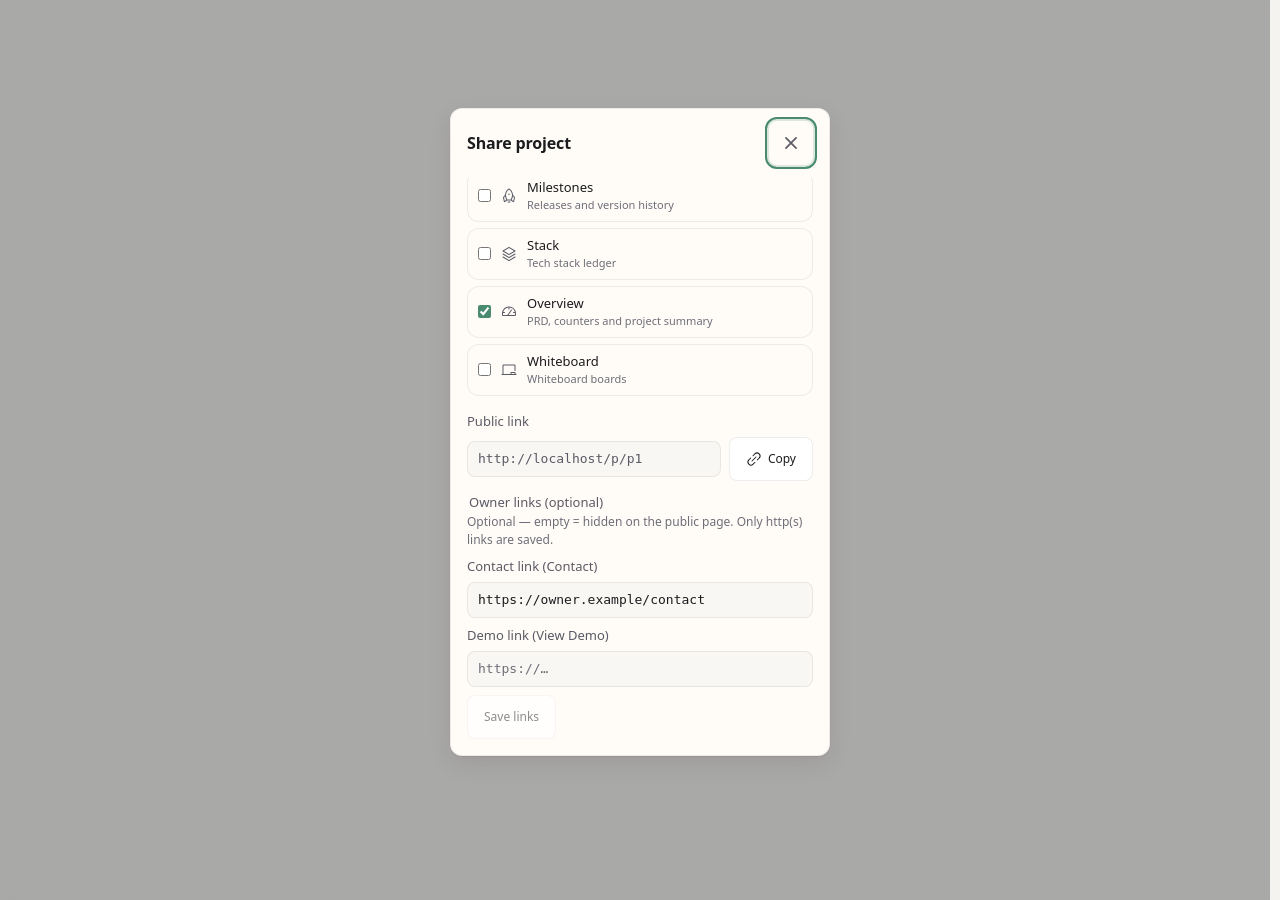
Test: ShareModal owner CTA › saves trimmed URLs and shows the saved indicator
The image size is (1280, 900).
(page scrolled)
Type "  https://demo.example/app  " into the field labelled "Demo link (View Demo)" at (640, 669), box [467,651,813,687]
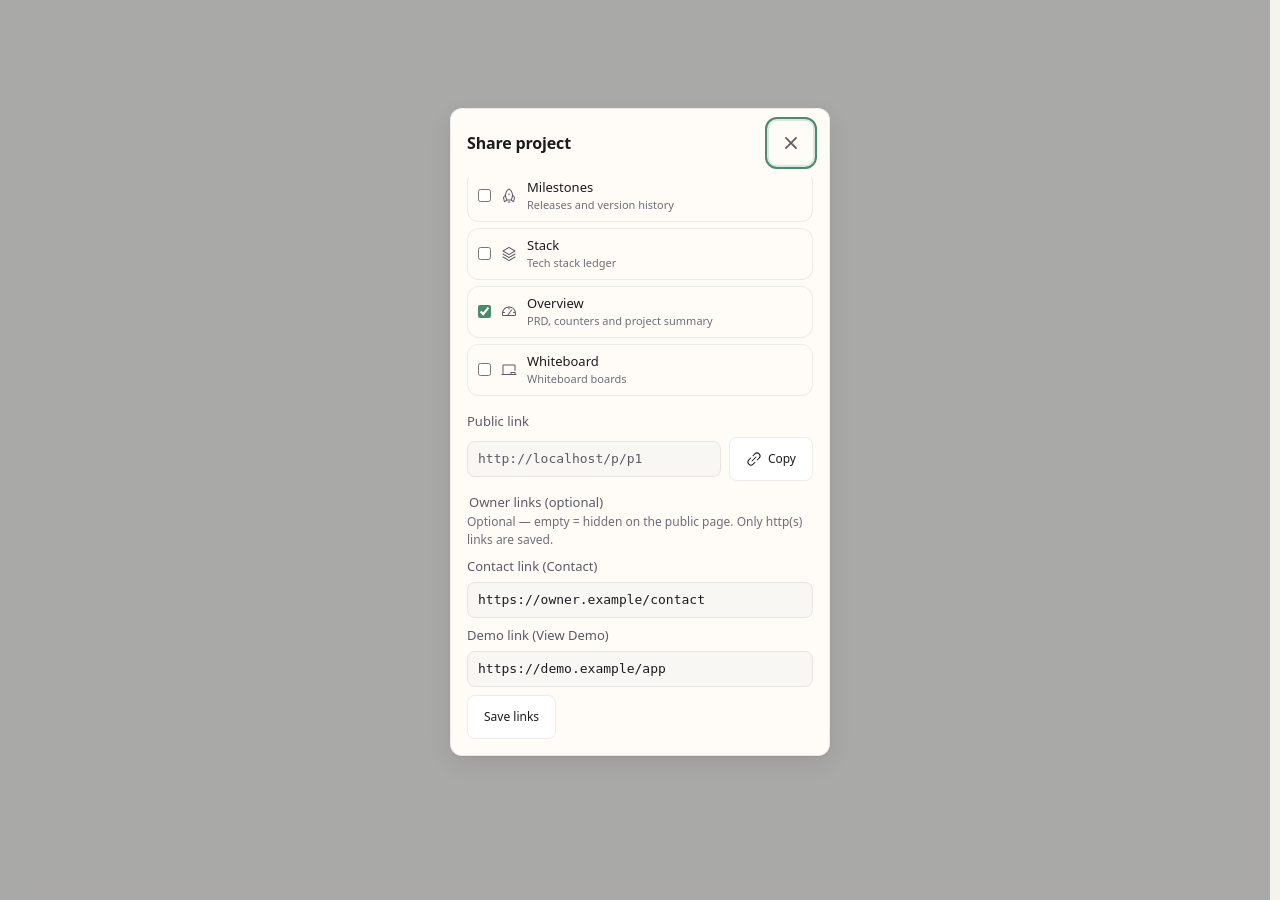
Now the button "Save links" is enabled
Click the button "Save links" at (512, 717), box [467,695,556,739]
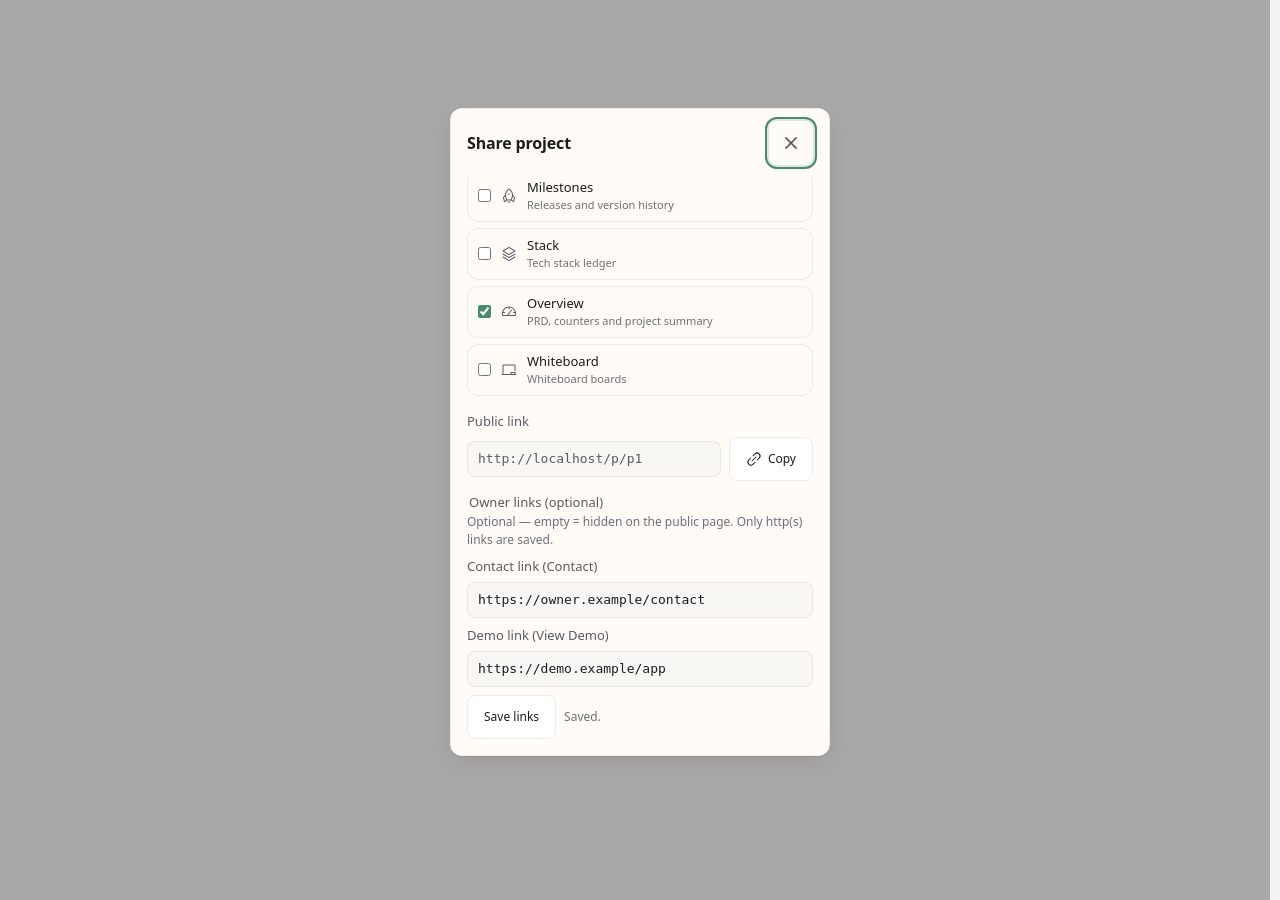
Now the text "Saved." is shown, box [564,708,601,726]
